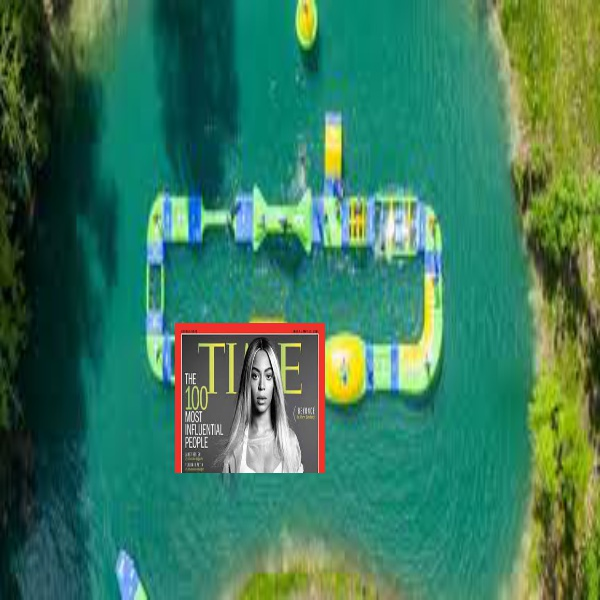time_cover: (169, 321, 328, 475)
